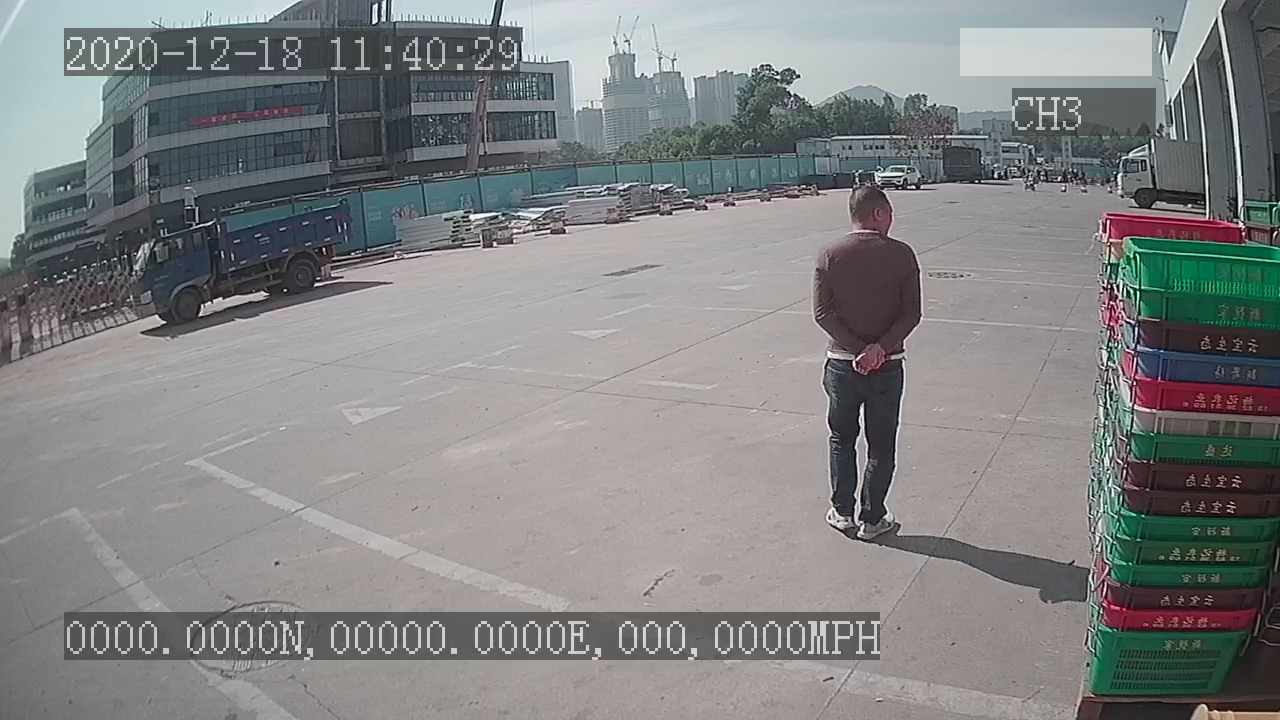person: (806, 180, 921, 547)
